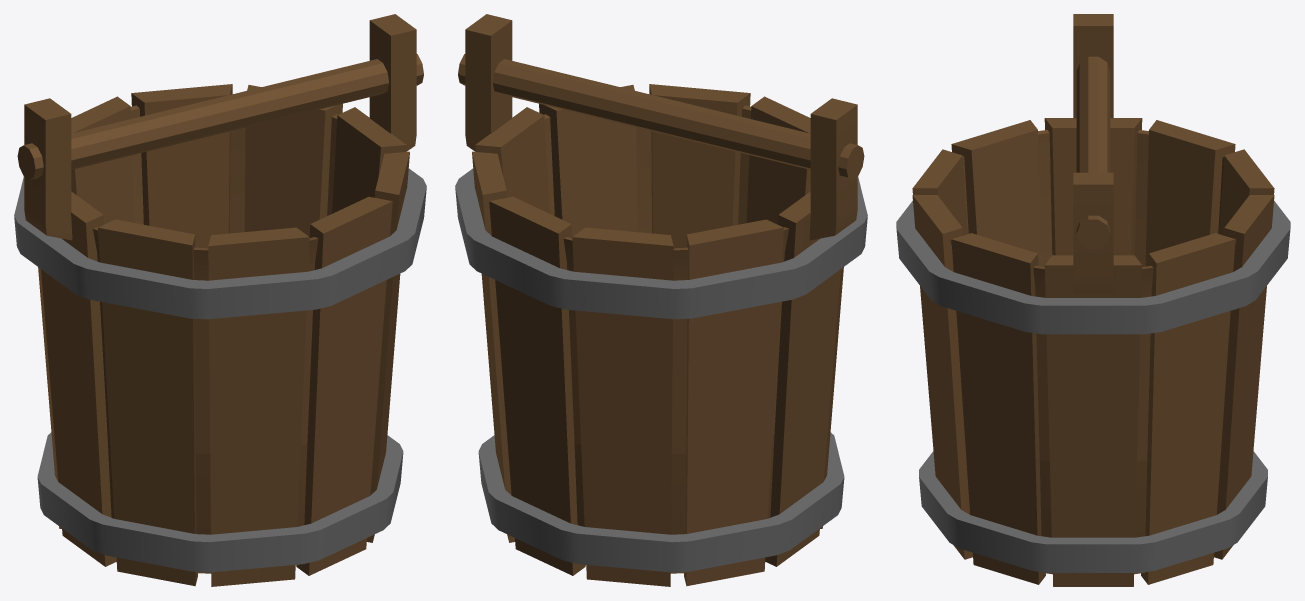
The model's file is Eimer.fbx.
3 views of the same model, side by side, from view 1: azimuth 30°, elevation 25°; view 2: azimuth 150°, elevation 25°; view 3: azimuth 270°, elevation 25° (orthographic). The views are drawn at different scales.
Parts seen in each view (by area): view 1: Eimer; view 2: Eimer; view 3: Eimer.
Part boxes in pixels (x1,y1,x2,y2): Eimer: [14, 14, 426, 586]; Eimer: [455, 14, 867, 586]; Eimer: [896, 14, 1290, 586].
Size of the model in its own units: 107 by 119 by 99.65.
